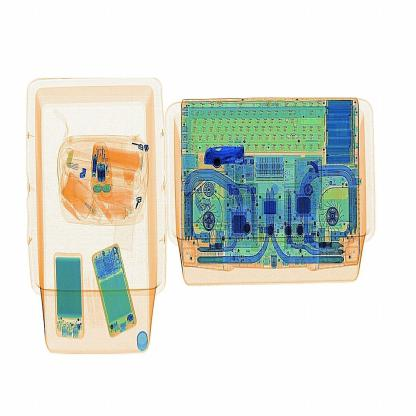knife: (202, 131, 255, 173)
